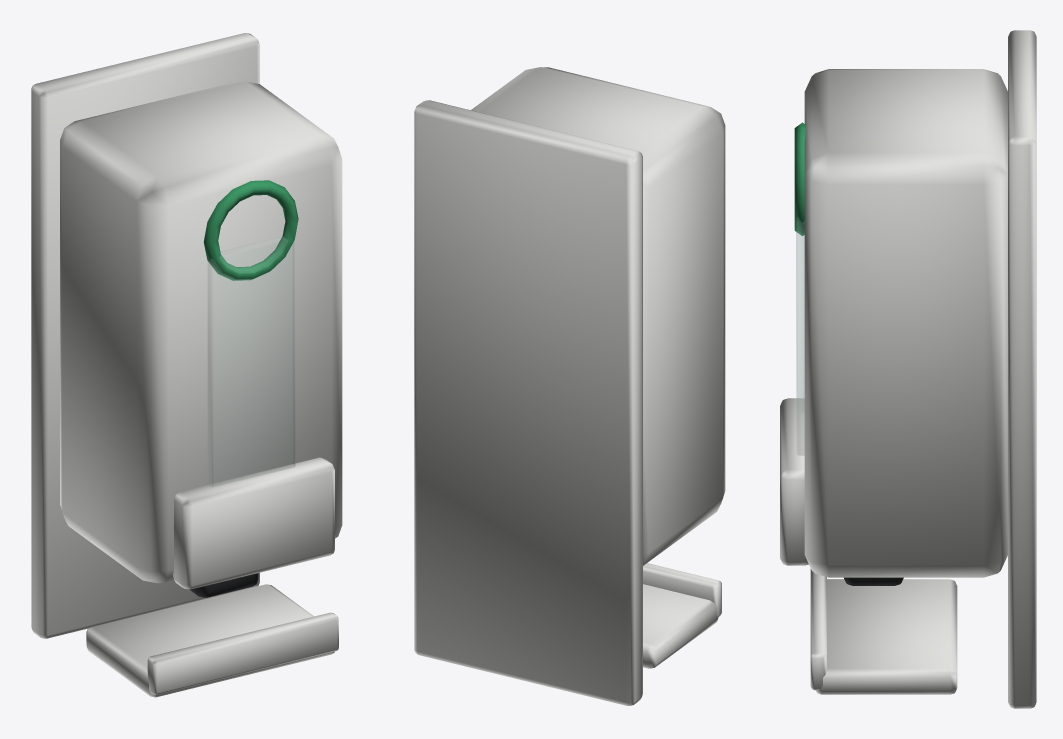
File: asset_098_hand_sanitizer_station.glb
The picture shows the model from 3 angles, left to right: view 1: azimuth 30°, elevation 25°; view 2: azimuth 150°, elevation 25°; view 3: azimuth 270°, elevation 25°; orthographic projection. The views are drawn at different scales.
Visible parts, largest first — view 1: MESH_SanitizerHousing, MESH_SanitizerBackPlate, MESH_SanitizerLevelWindow, MESH_SanitizerPlate, MESH_SanitizerDripTray, MESH_SanitizerTrayLip, MESH_SanitizerCrest, MESH_SanitizerNozzle; view 2: MESH_SanitizerBackPlate, MESH_SanitizerHousing, MESH_SanitizerDripTray, MESH_SanitizerTrayLip; view 3: MESH_SanitizerHousing, MESH_SanitizerBackPlate, MESH_SanitizerDripTray, MESH_SanitizerPlate, MESH_SanitizerLevelWindow, MESH_SanitizerTrayLip, MESH_SanitizerCrest, MESH_SanitizerNozzle.
Boxes of the visible parts, x1=… form: MESH_SanitizerHousing: x1=60, y1=81, x2=342, y2=583; MESH_SanitizerBackPlate: x1=31, y1=33, x2=259, y2=638; MESH_SanitizerLevelWindow: x1=208, y1=236, x2=294, y2=486; MESH_SanitizerPlate: x1=173, y1=457, x2=334, y2=589; MESH_SanitizerDripTray: x1=86, y1=584, x2=334, y2=697; MESH_SanitizerTrayLip: x1=147, y1=612, x2=338, y2=694; MESH_SanitizerCrest: x1=203, y1=180, x2=298, y2=280; MESH_SanitizerNozzle: x1=189, y1=573, x2=258, y2=597; MESH_SanitizerBackPlate: x1=414, y1=100, x2=642, y2=705; MESH_SanitizerHousing: x1=471, y1=67, x2=725, y2=565; MESH_SanitizerDripTray: x1=643, y1=584, x2=718, y2=668; MESH_SanitizerTrayLip: x1=643, y1=563, x2=721, y2=616; MESH_SanitizerHousing: x1=804, y1=69, x2=1007, y2=577; MESH_SanitizerBackPlate: x1=1008, y1=30, x2=1036, y2=708; MESH_SanitizerDripTray: x1=816, y1=579, x2=957, y2=694; MESH_SanitizerPlate: x1=780, y1=398, x2=808, y2=565; MESH_SanitizerLevelWindow: x1=796, y1=217, x2=804, y2=454; MESH_SanitizerTrayLip: x1=810, y1=569, x2=826, y2=690; MESH_SanitizerCrest: x1=794, y1=122, x2=805, y2=235; MESH_SanitizerNozzle: x1=844, y1=577, x2=903, y2=585.
Size of the model in its own units: 0.14 by 0.32 by 0.132.
